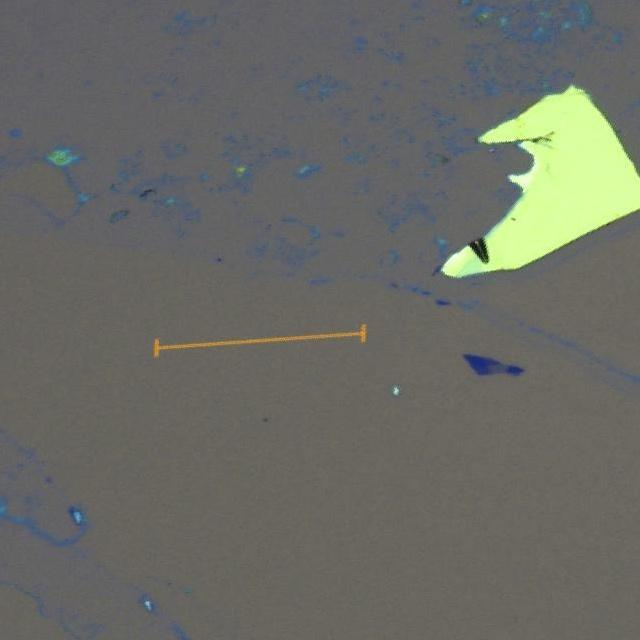monolayer-eWW4: (486, 362, 509, 374)
